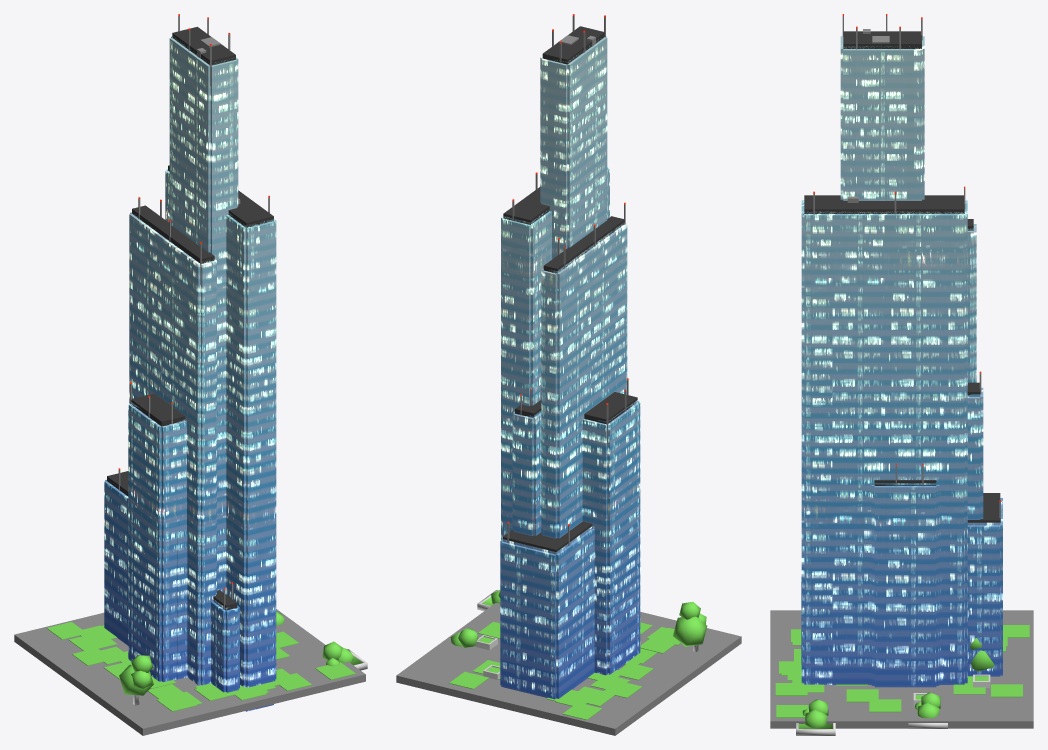
File: medium-light-new.glb
3 renders of one model, left to right at view 1: azimuth 30°, elevation 25°; view 2: azimuth 150°, elevation 25°; view 3: azimuth 270°, elevation 25°, orthographic. The views are drawn at different scales.
Parts seen in each view (by area): view 1: Bossverse_user_paid_land.017; view 2: Bossverse_user_paid_land.017; view 3: Bossverse_user_paid_land.017.
Boxes of the visible parts, x1=… form: Bossverse_user_paid_land.017: x1=14, y1=14, x2=367, y2=735; Bossverse_user_paid_land.017: x1=396, y1=14, x2=741, y2=735; Bossverse_user_paid_land.017: x1=770, y1=14, x2=1033, y2=735.
Bounding box in the file's own units: 9.69 × 25.89 × 9.1.
Materials: 6 (1 with a texture image).
